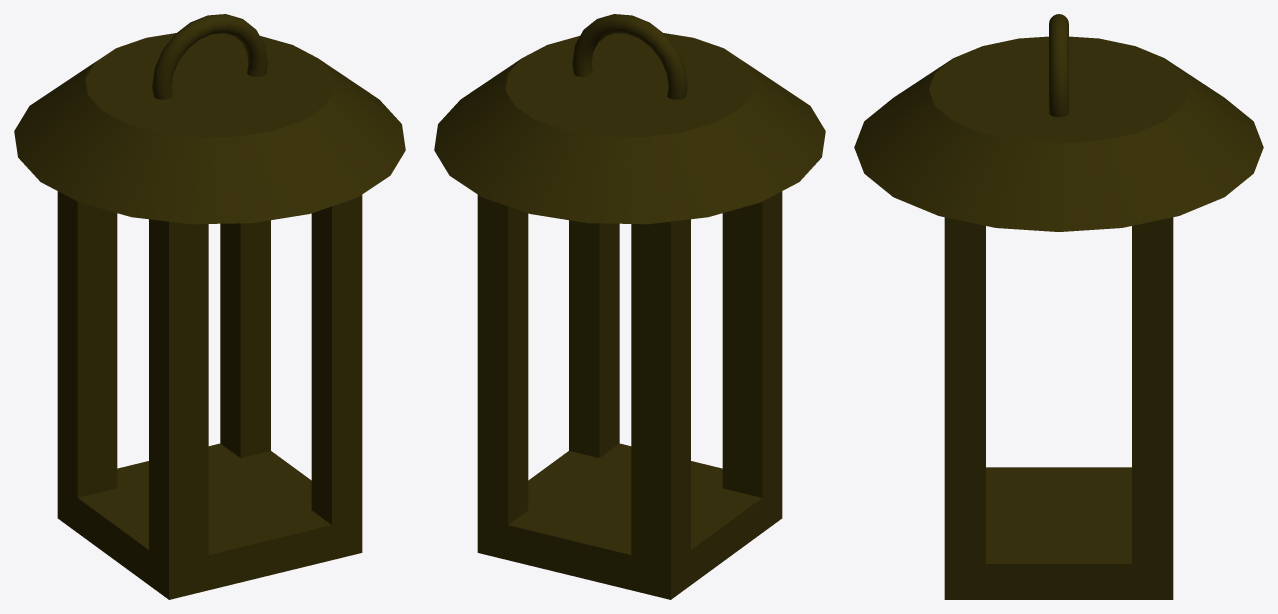
File: lantern.fbx
3 views of the same model, side by side, from view 1: azimuth 30°, elevation 25°; view 2: azimuth 150°, elevation 25°; view 3: azimuth 270°, elevation 25° (orthographic). The views are drawn at different scales.
Parts seen in each view (by area): view 1: pTorus2; view 2: pTorus2; view 3: pTorus2.
Part boxes in pixels (bbox=[...]): pTorus2: bbox=[14, 14, 405, 599]; pTorus2: bbox=[434, 14, 825, 599]; pTorus2: bbox=[854, 14, 1263, 599].
Size of the model in its own units: 4.57 by 6.7 by 4.68.
